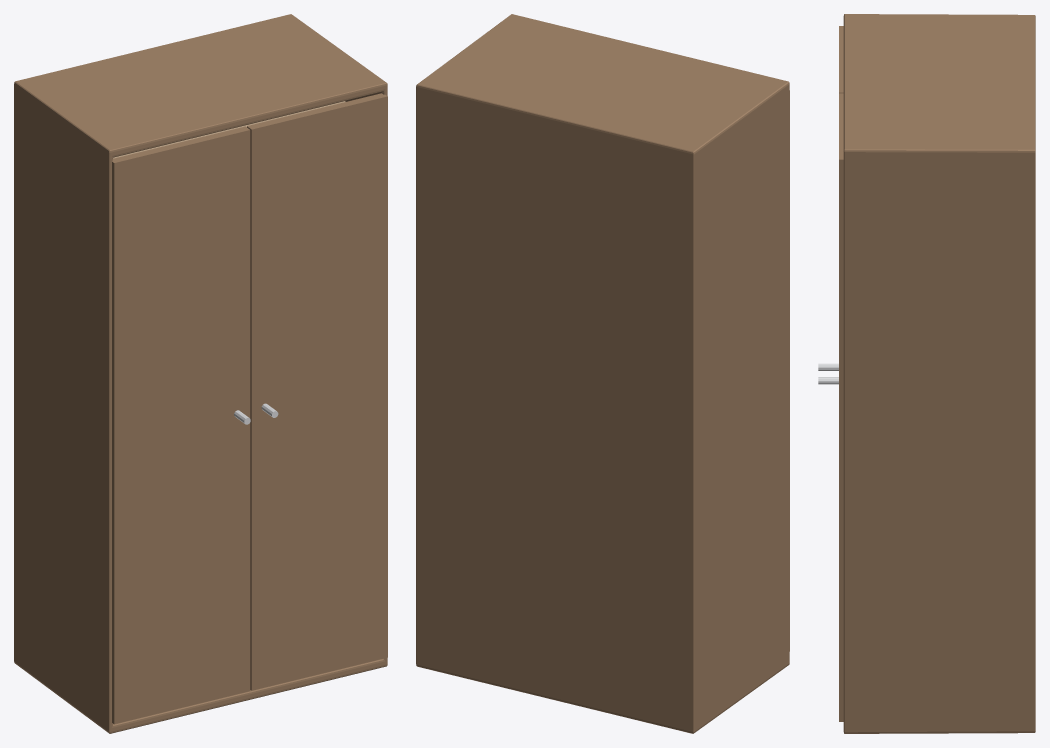
File: Wandrobe.fbx
3 renders of one model, left to right at view 1: azimuth 30°, elevation 25°; view 2: azimuth 150°, elevation 25°; view 3: azimuth 270°, elevation 25°, orthographic.
Visible parts, largest first — view 1: HangerRail, DoorL, DoorR; view 2: HangerRail; view 3: HangerRail, DoorR, DoorL.
Part boxes in pixels (x1,y1,x2,y2): HangerRail: (14,14,387,733); DoorL: (112,126,250,724); DoorR: (247,93,387,690); HangerRail: (416,14,789,733); HangerRail: (843,14,1035,733); DoorR: (818,93,843,721); DoorL: (818,26,843,370).
Size of what is drawn, in the model's own units: 101 by 203 by 68.35.
